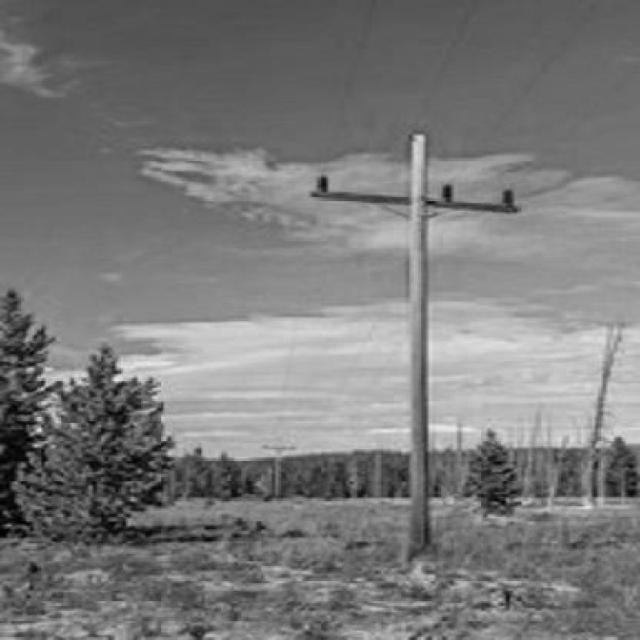Pole: (408, 133, 432, 558)
